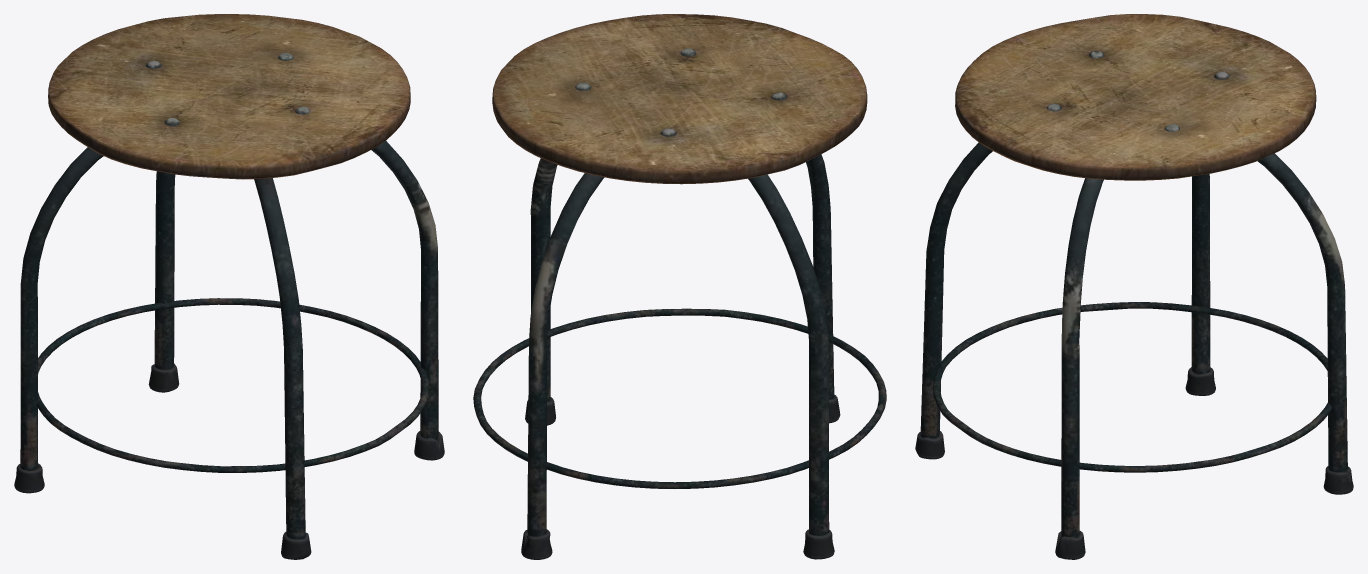
Rendered from metal_stool_02.glb.
3 renders of one model, left to right at view 1: azimuth 30°, elevation 25°; view 2: azimuth 150°, elevation 25°; view 3: azimuth 270°, elevation 25°, orthographic. The views are drawn at different scales.
Visible parts, largest first — view 1: metal_stool_02; view 2: metal_stool_02; view 3: metal_stool_02.
Part boxes in pixels (box(x1,y1,x2,y2)): metal_stool_02: box(14, 14, 444, 559); metal_stool_02: box(473, 14, 886, 559); metal_stool_02: box(915, 14, 1353, 559).
Size of the model in its own units: 0.4481 by 0.4579 by 0.4731.
Materials: 1 (1 with a texture image).
